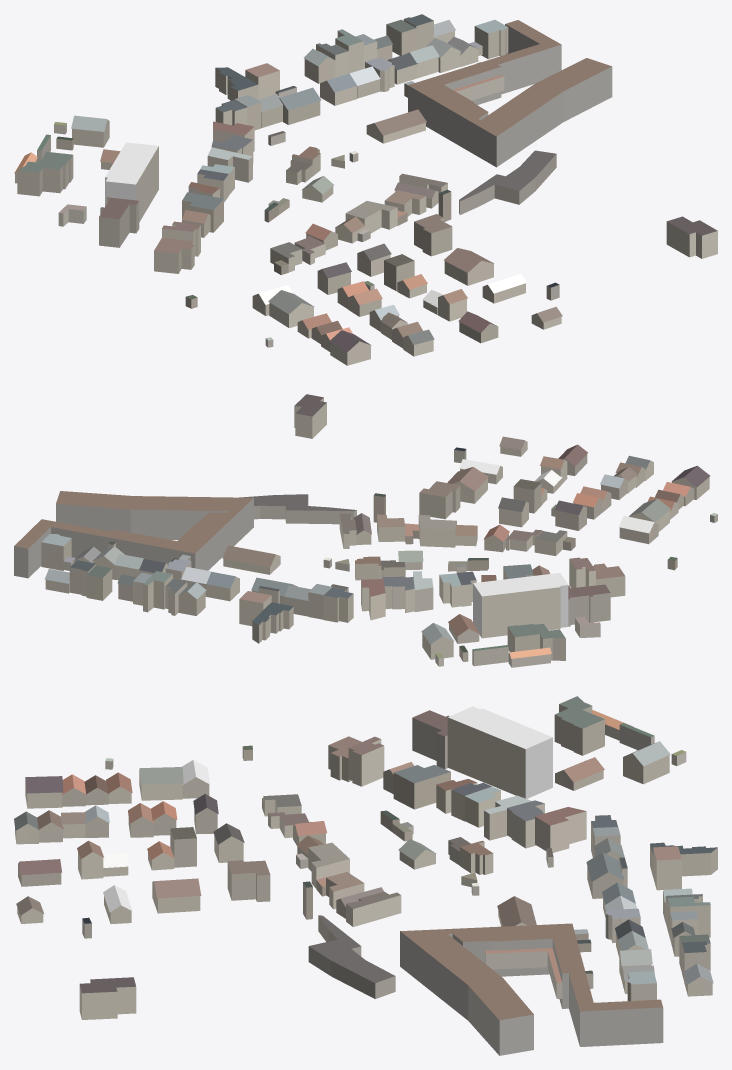
3 views of the same model, one above another, from view 1: azimuth 30°, elevation 25°; view 2: azimuth 150°, elevation 25°; view 3: azimuth 270°, elevation 25° (orthographic). The views are drawn at different scales.
Visible parts, largest first — view 1: tuile; view 2: tuile; view 3: tuile.
Part boxes in pixels (x1,y1,x2,y2): tuile: (14, 14, 717, 365); tuile: (14, 394, 717, 667); tuile: (14, 696, 717, 1055).
Size of the model in its own units: 276 by 29.4 by 261.
